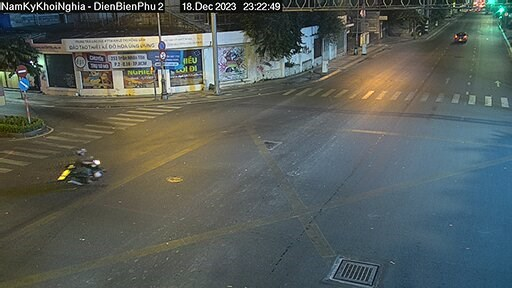car: (452, 29, 472, 44)
motorbike: (56, 146, 114, 190)
